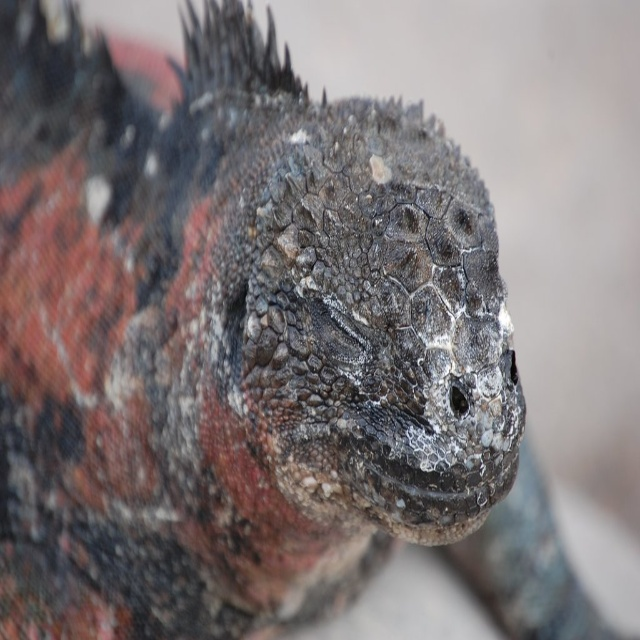Lizard: (2, 2, 524, 634)
